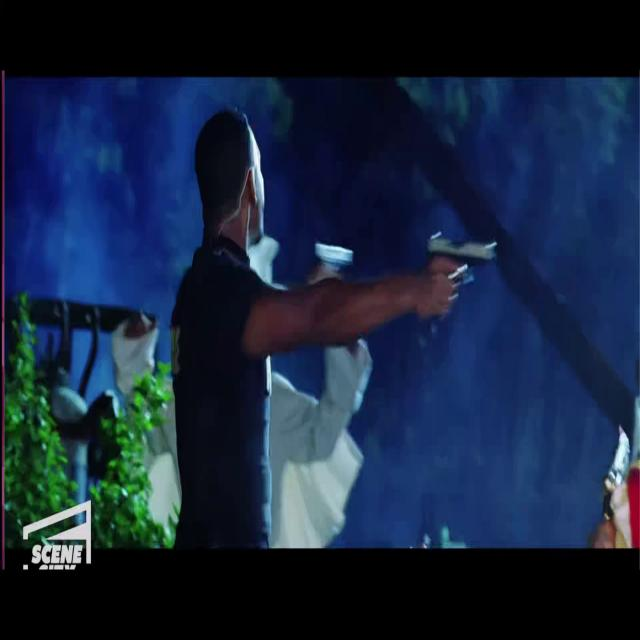weapons: (420, 216, 500, 344)
